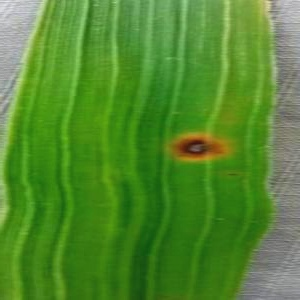Bacterial_Leaf_Blight: (167, 129, 235, 166), (224, 170, 243, 181)
